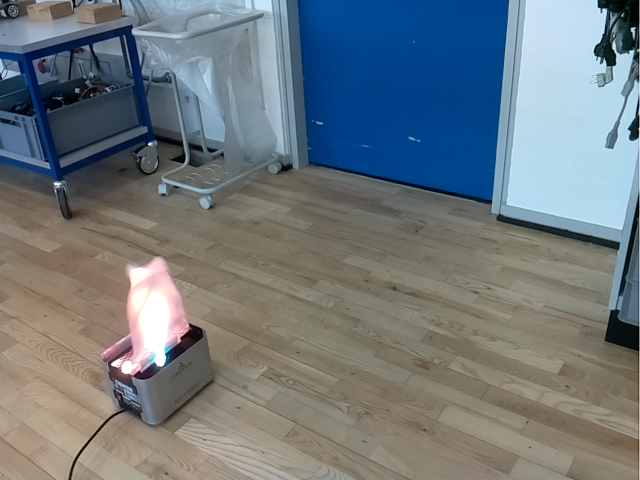fire: (125, 256, 191, 375)
